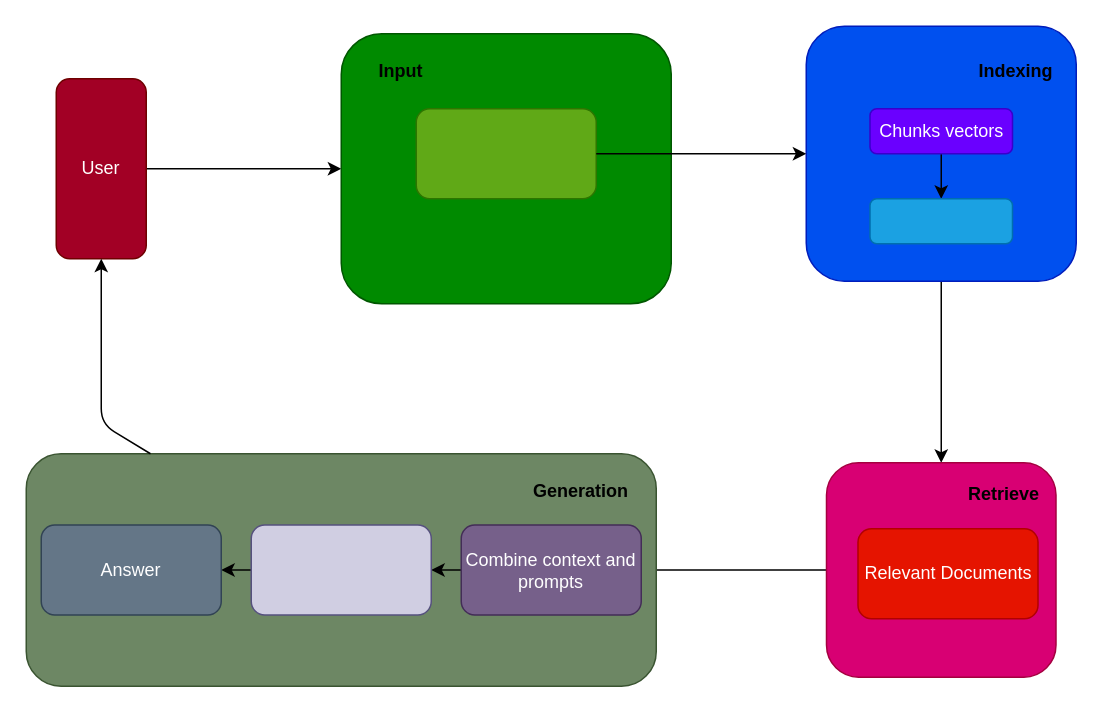
This 1103x713 diagram has some shape labels left out. The shapes that lost their labels are listed below. From the top down, each one's box as (x1, y1, x2, y2) in pixels, then its label:
(415, 107, 596, 199): Query
(868, 197, 1012, 244): Embeddings
(250, 524, 431, 615): LLM
